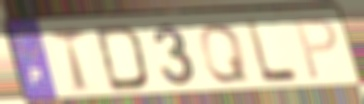3: (151, 22, 197, 90)
D: (93, 23, 152, 93)
L: (243, 17, 302, 86)
P: (292, 15, 340, 83)
Q: (197, 22, 252, 85)
T: (48, 25, 92, 95)
